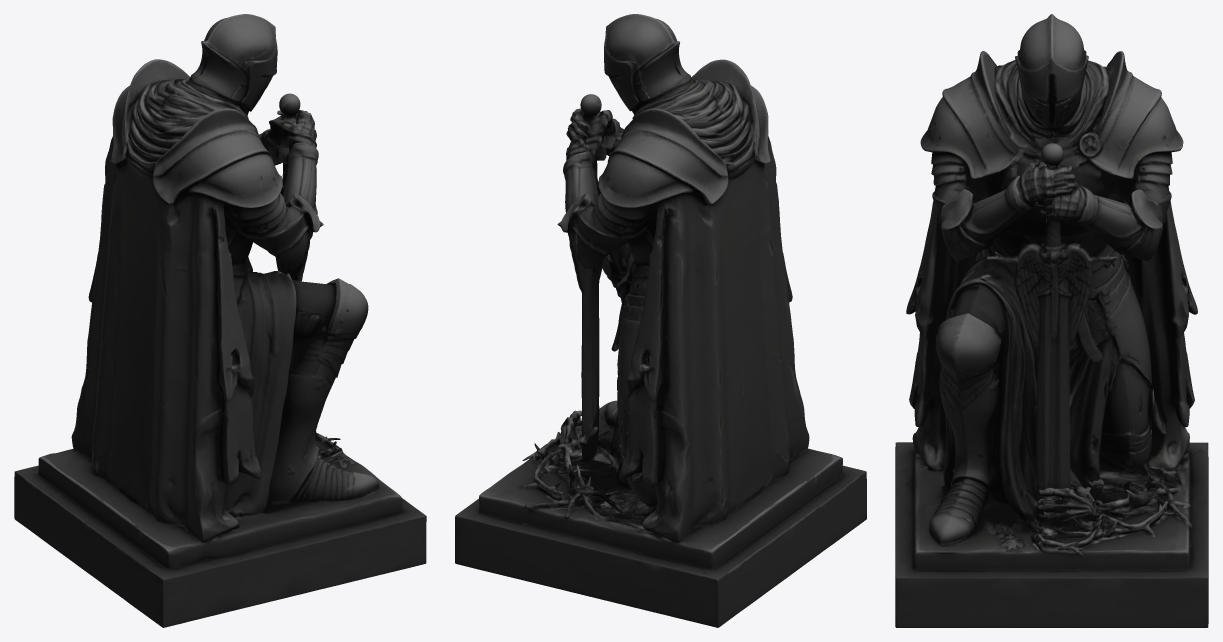
The model's file is the penitent  Guardian.fbx.
3 renders of one model, left to right at view 1: azimuth 30°, elevation 25°; view 2: azimuth 150°, elevation 25°; view 3: azimuth 270°, elevation 25°, orthographic. The views are drawn at different scales.
Visible parts, largest first — view 1: tripo_node_d1541c48; view 2: tripo_node_d1541c48; view 3: tripo_node_d1541c48.
Part boxes in pixels (left/top/right/bottom): tripo_node_d1541c48: left=14, top=14, right=426, bottom=627; tripo_node_d1541c48: left=455, top=14, right=866, bottom=627; tripo_node_d1541c48: left=895, top=14, right=1208, bottom=627.
Bounding box in the file's own units: 52.85 × 100 × 51.61.
Materials: 1 (1 with a texture image).
